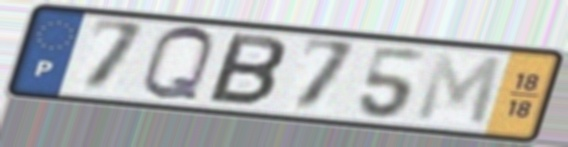5: (354, 43, 425, 122)
7: (85, 16, 146, 96), (297, 35, 357, 115)
B: (203, 30, 290, 109)
M: (411, 49, 506, 130)
Q: (138, 23, 218, 105)
